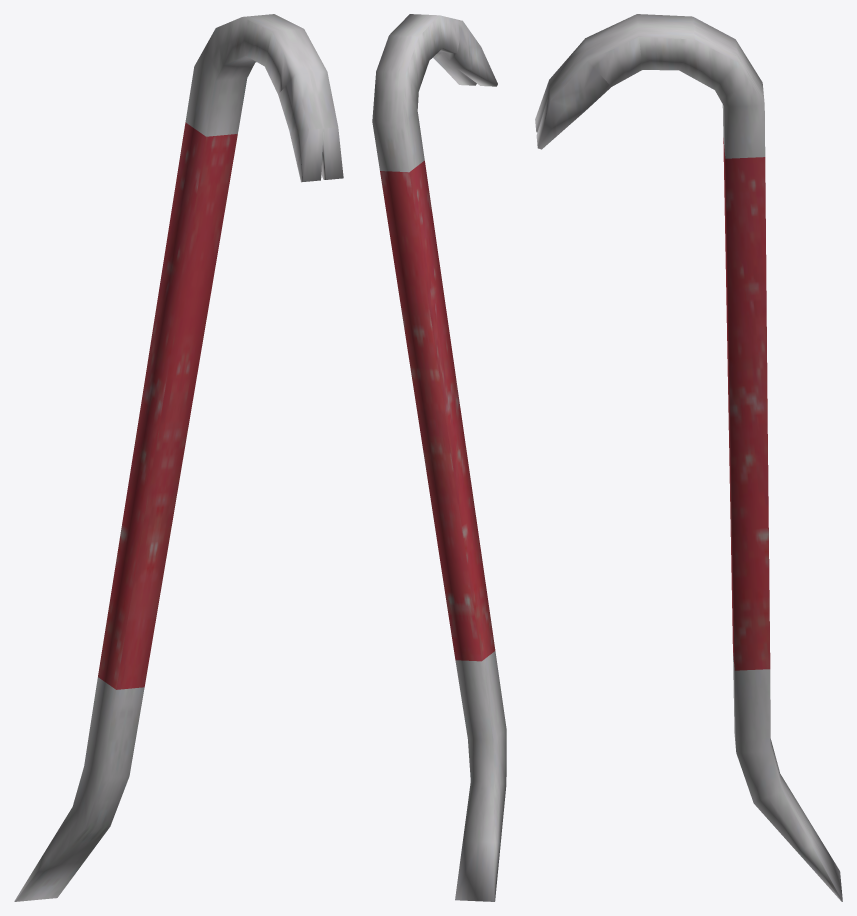
Rendered from crowbar.fbx.
The picture shows the model from 3 angles, left to right: view 1: azimuth 30°, elevation 25°; view 2: azimuth 150°, elevation 25°; view 3: azimuth 270°, elevation 25°; orthographic projection. The views are drawn at different scales.
Parts seen in each view (by area): view 1: crowbar; view 2: crowbar; view 3: crowbar.
Part boxes in pixels (x1,y1,x2,y2): crowbar: (14,14,343,901); crowbar: (372,14,506,901); crowbar: (535,14,842,901).
Size of the model in its own units: 0.2648 by 1.19 by 0.3506.
